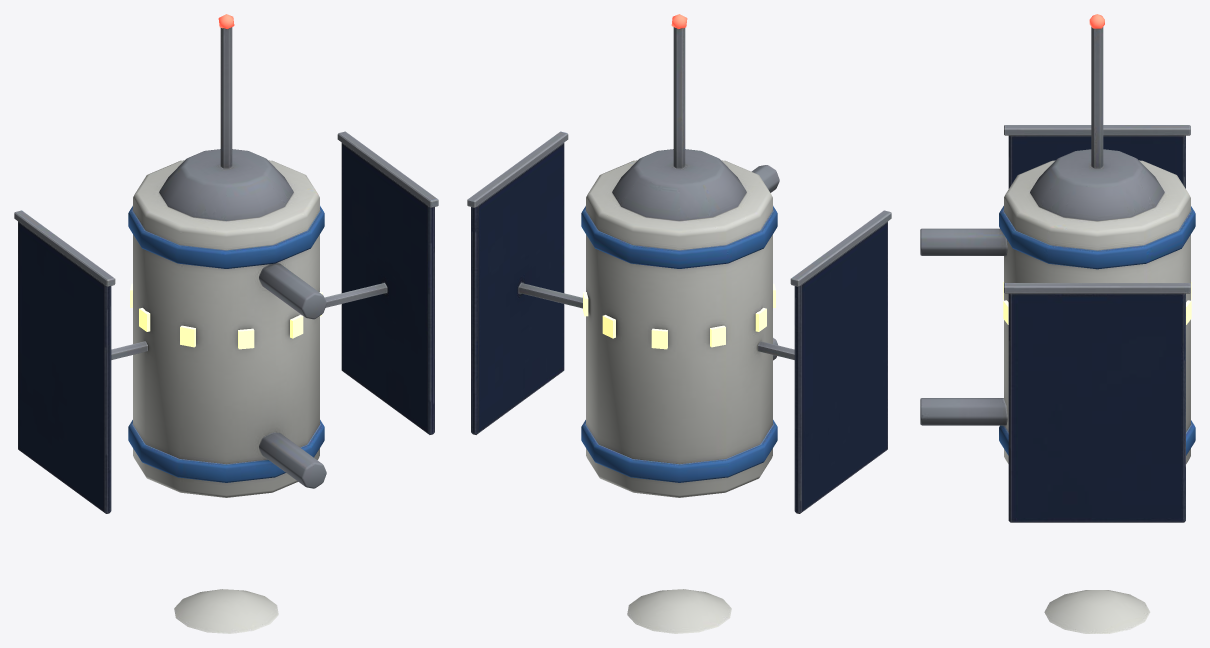
Rendered from ring_end.glb.
3 views of the same model, side by side, from view 1: azimuth 30°, elevation 25°; view 2: azimuth 150°, elevation 25°; view 3: azimuth 270°, elevation 25° (orthographic).
Visible parts, largest first — view 1: ring_end, ring_end_glow; view 2: ring_end, ring_end_glow; view 3: ring_end, ring_end_glow.
Part boxes in pixels (box(x1,y1,x2,y2)): ring_end: box(14, 27, 438, 633); ring_end_glow: box(130, 14, 322, 349); ring_end: box(467, 27, 891, 633); ring_end_glow: box(583, 14, 775, 349); ring_end: box(920, 27, 1195, 633); ring_end_glow: box(1003, 14, 1191, 324).
Size of the model in its own units: 3.9 by 6.71 by 2.8.
Materials: 3 (1 with a texture image).
